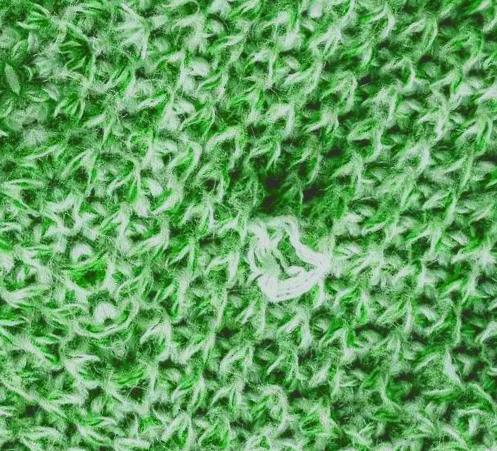snag: (239, 207, 346, 311)
